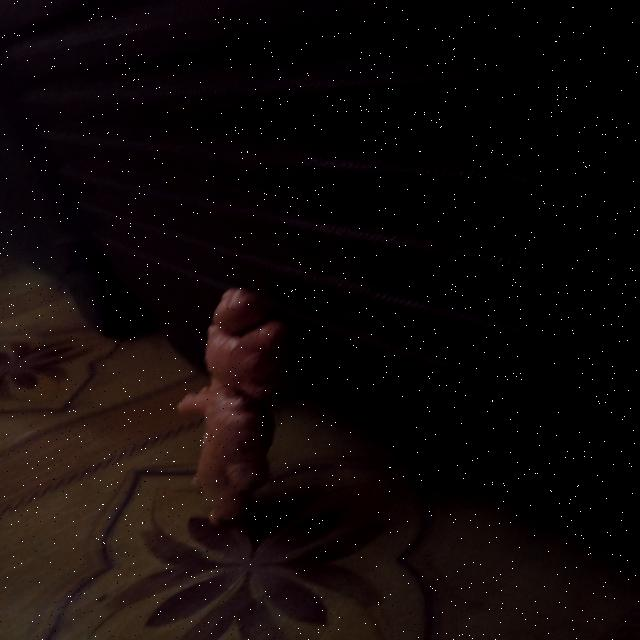ginger: (164, 265, 327, 528)
